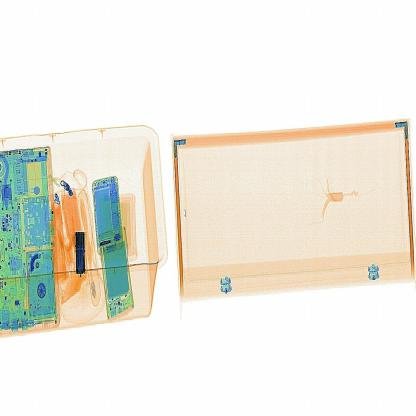scissors: (66, 218, 94, 280)
